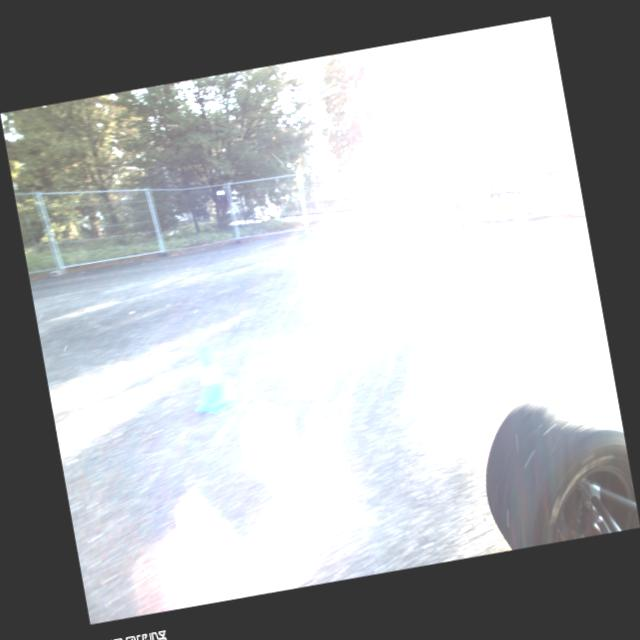blue_cone: (184, 342, 240, 417)
